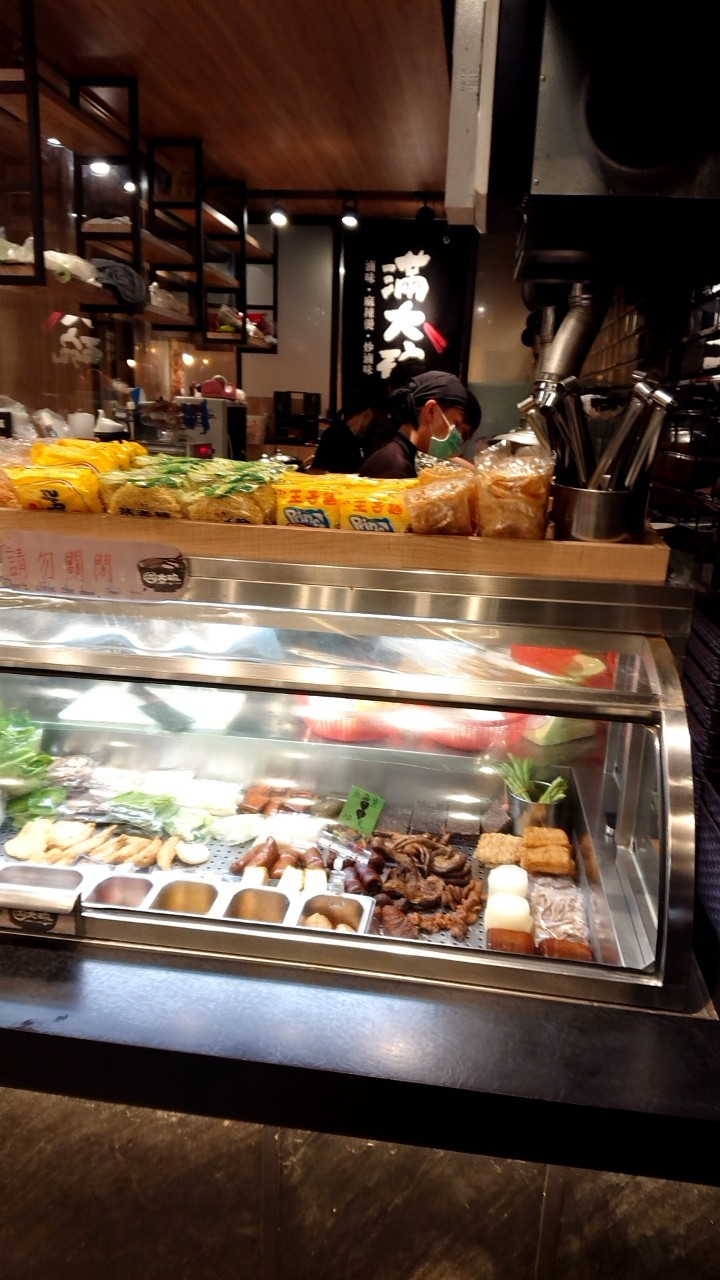people: (312, 372, 475, 488)
